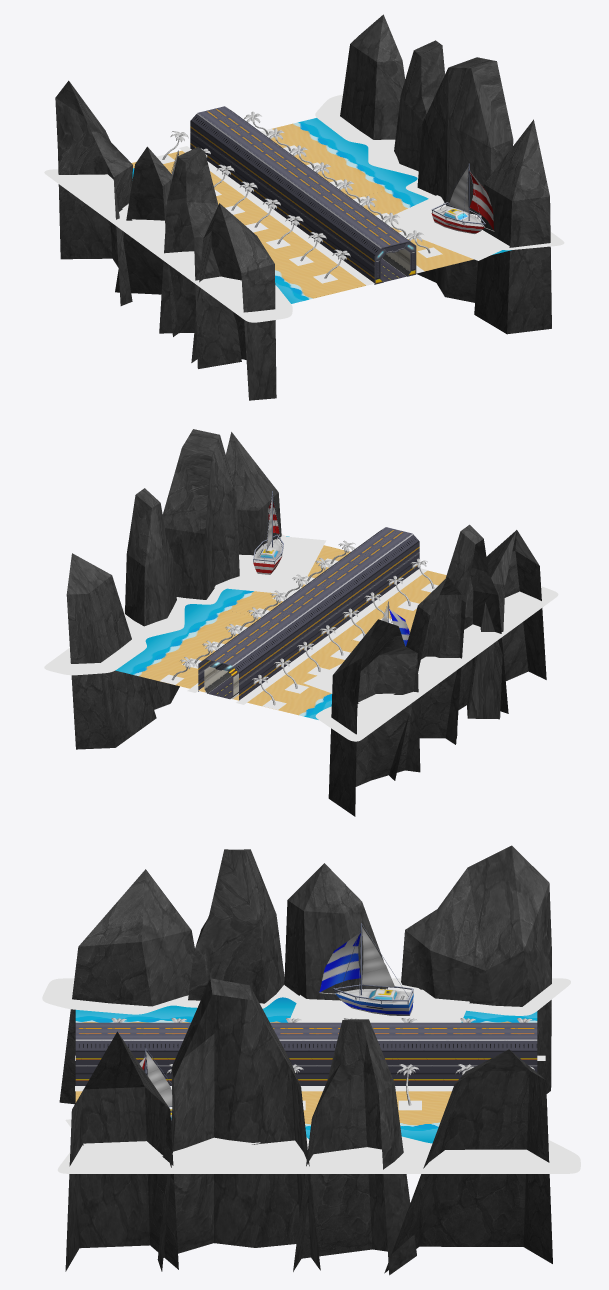
File: Beach_10.fbx
3 renders of one model, top to bottom at view 1: azimuth 30°, elevation 25°; view 2: azimuth 150°, elevation 25°; view 3: azimuth 270°, elevation 25°, orthographic. The views are drawn at different scales.
Parts seen in each view (by area): view 1: Beach_10; view 2: Beach_10; view 3: Beach_10.
Part boxes in pixels (x1,y1,x2,y2): Beach_10: [44, 14, 564, 400]; Beach_10: [44, 429, 558, 816]; Beach_10: [42, 845, 580, 1275].
Size of the model in its own units: 22617 by 13384 by 25170.
